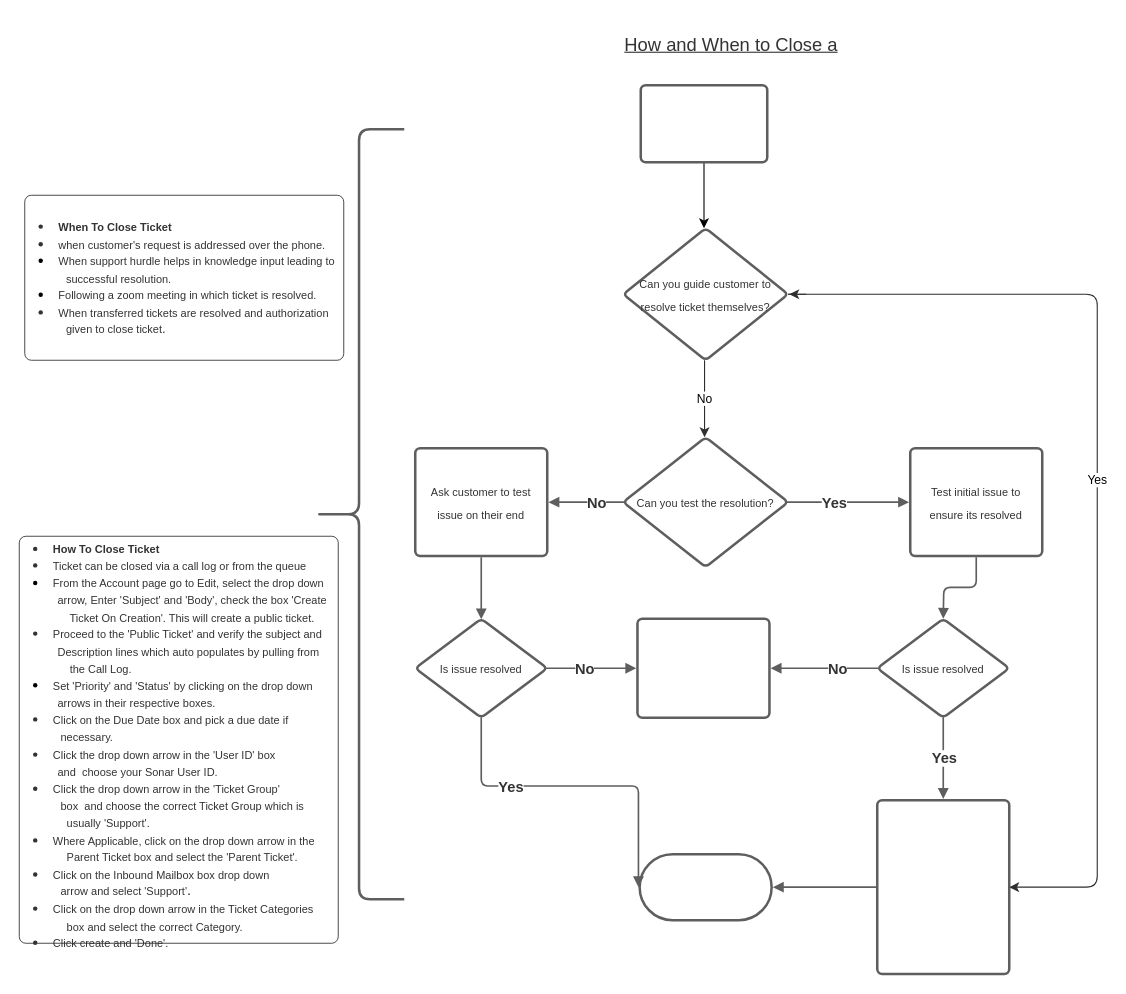
Image size: 1126x994. Some labels were removed from this diagram. Here are the shapes that lost their labels. From the top down, the box of each, then its label:
(639, 83, 768, 163): Process for closing an open ticket
(636, 617, 770, 719): Escalate
(638, 852, 772, 921): Send customer survey
(875, 798, 1010, 975): Send followup email to customer letting them know issue is revolved
